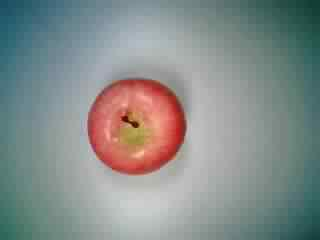apple: (82, 73, 187, 175)
